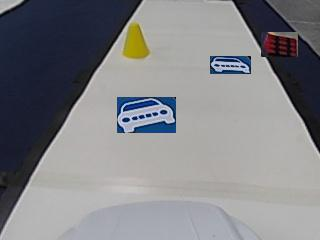cone: (123, 24, 149, 57)
